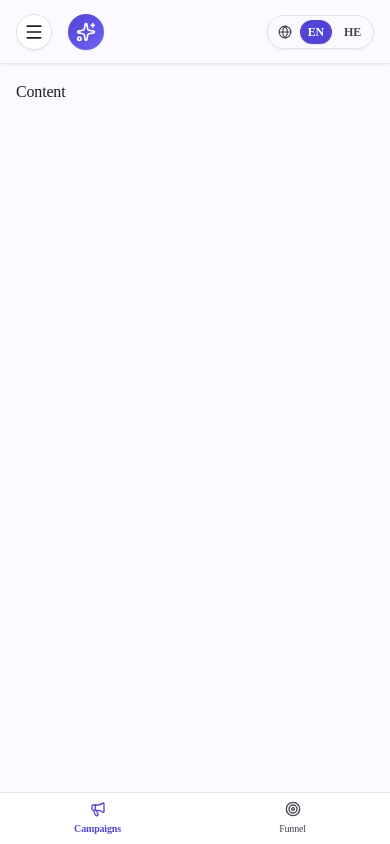
Test: Adversarial & Edge-Case Stress Harness: Milestone 1 (App Shell & Navigation) › 6. NavShell & Floating Header Interactive Integrity › 6.2 toggles mobile slide-down drawer and closes on link selection
The image size is (390, 844).
// Click to open mobile drawer
What coordinates should you click on to do the following:
click the button named "open navigation"
I would click on:
 (34, 32)
Its box is [16, 14, 52, 50].
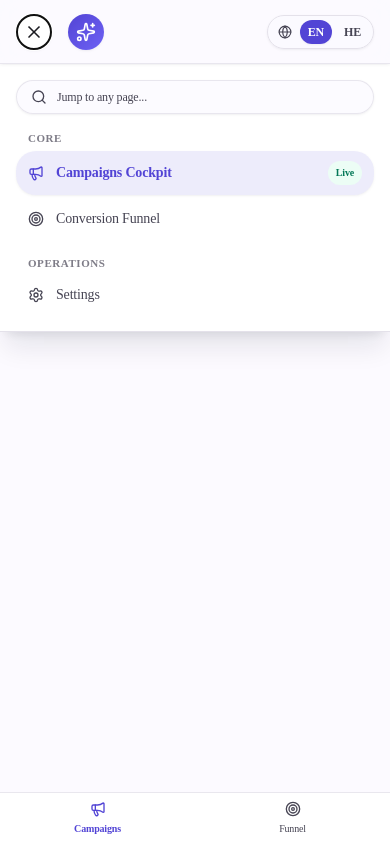
Expected: the button named "close navigation" is shown, [16, 14, 52, 50]
Expected: the number of links "Conversion Funnel" is 2
// Clicking the mobile drawer link (funnelLinks[1]) invokes onClick which closes the drawer
What coordinates should you click on to do the following:
click the link "Conversion Funnel"
I would click on:
 (94, 218)
Its box is [28, 210, 160, 226].
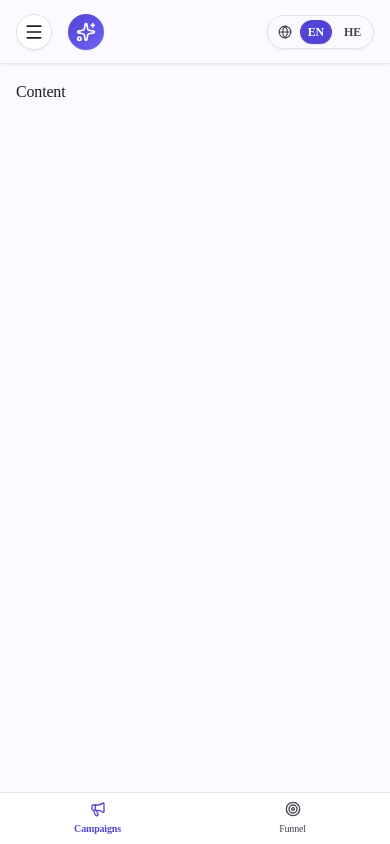
Expected: the button named "open navigation" is shown, [16, 14, 52, 50]
